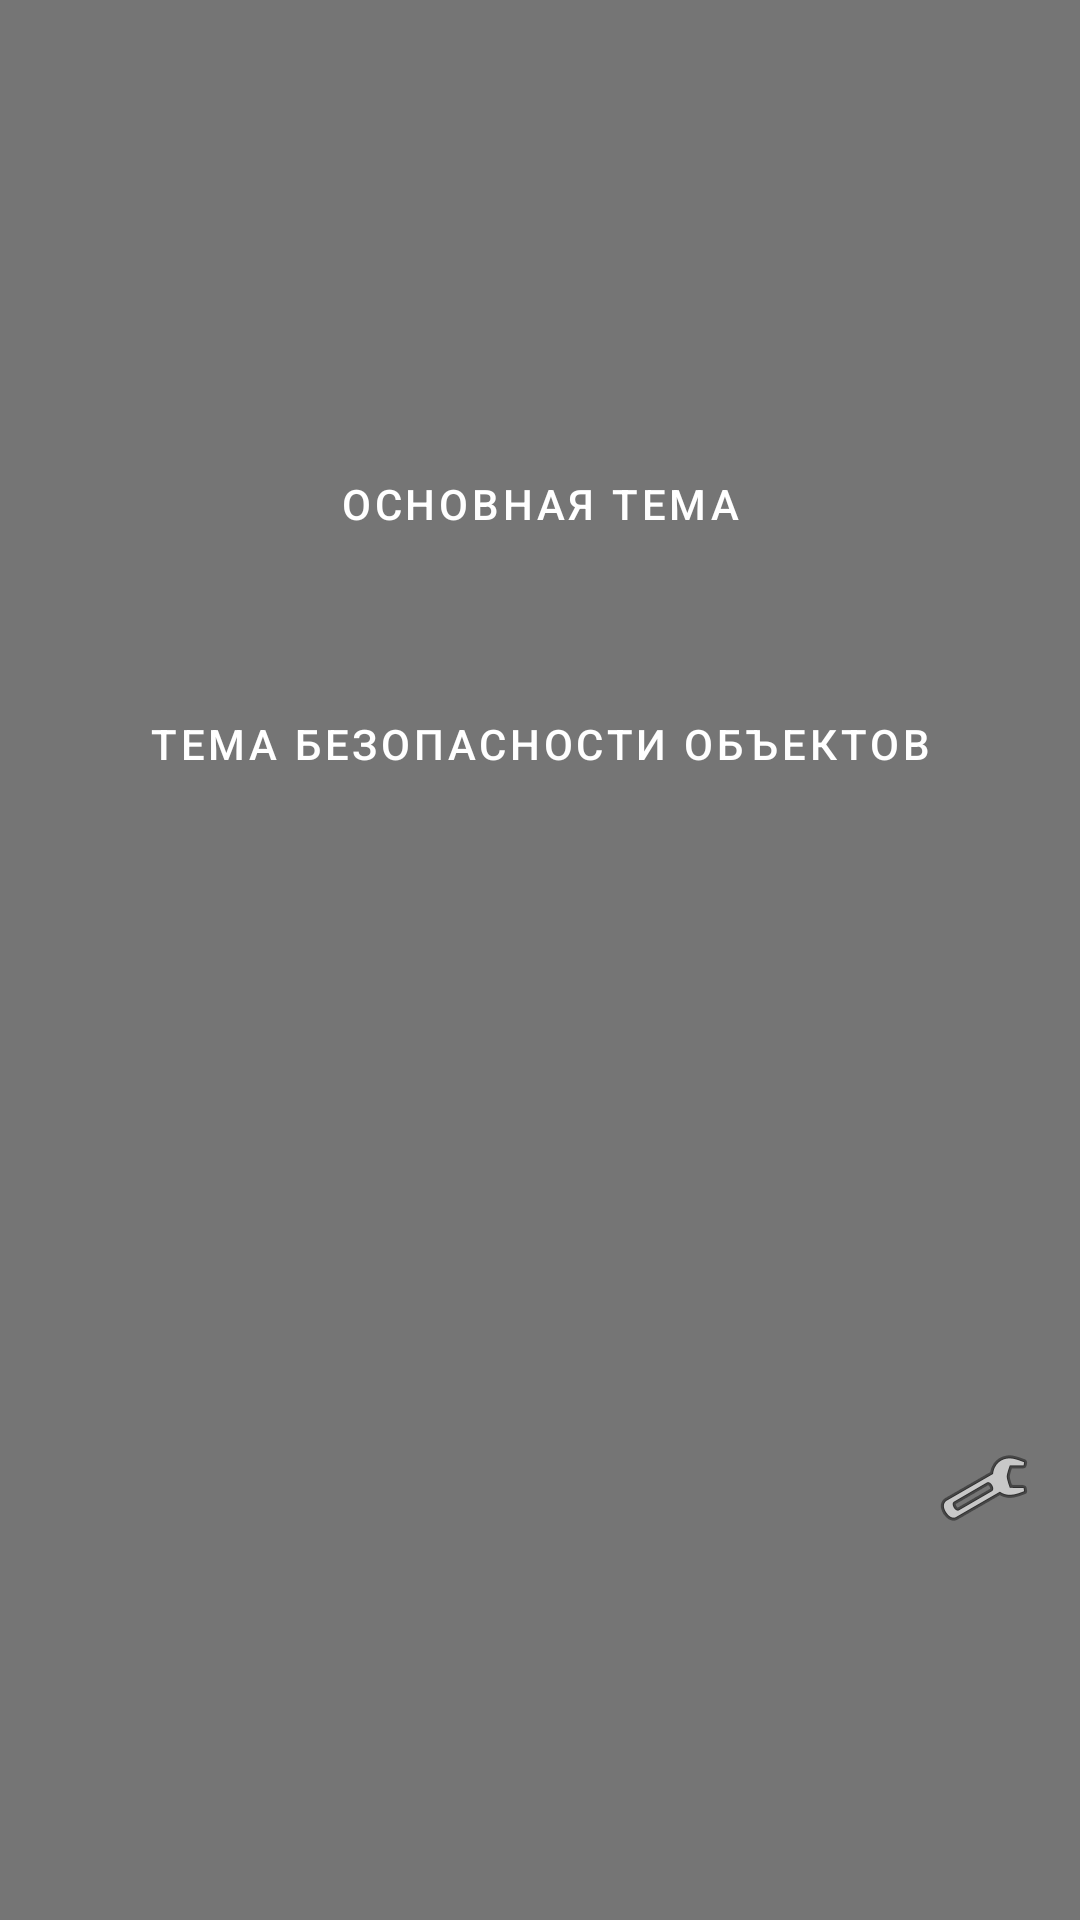

Icons on this 1080px x 1920px Android screen, each with its box as (x1,y1,x2,y2):
Настройки: (941,1455,1027,1521)
